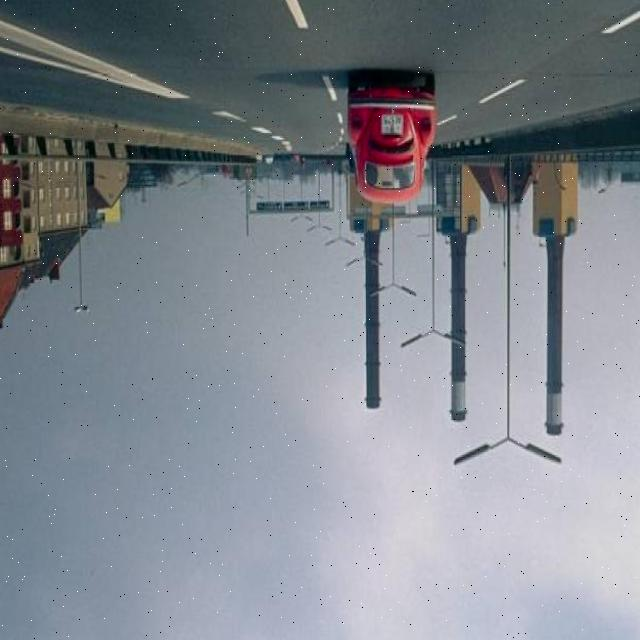car: (349, 81, 434, 207)
